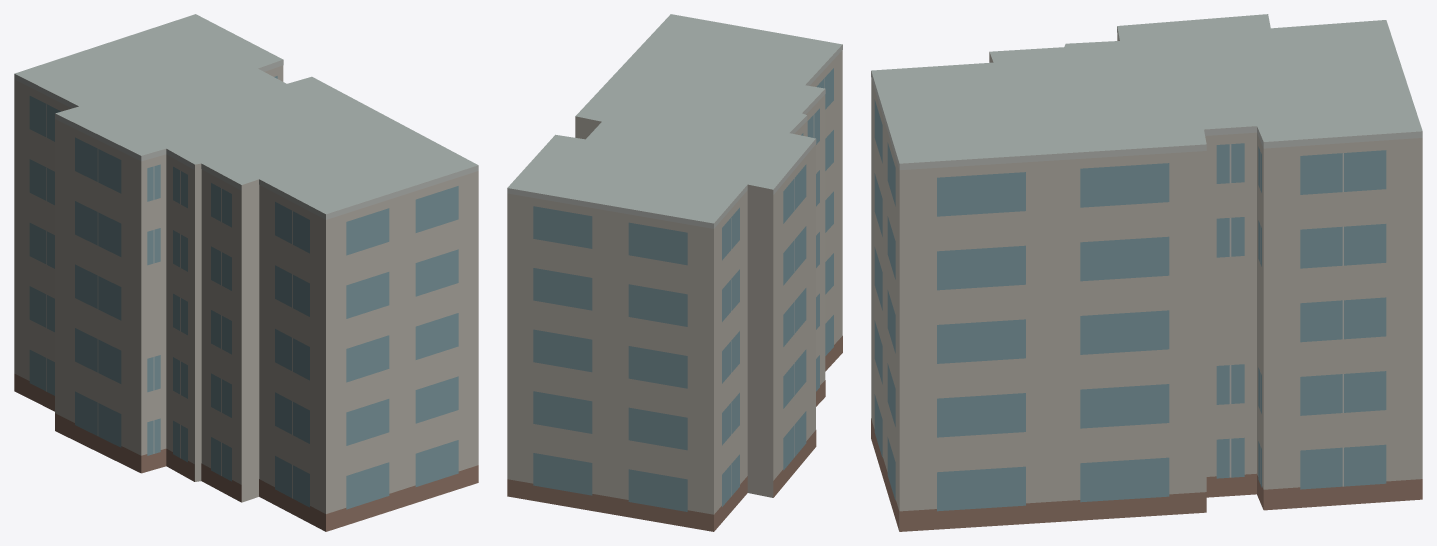
File: survey-upis-32952759.glb
The picture shows the model from 3 angles, left to right: view 1: azimuth 30°, elevation 25°; view 2: azimuth 150°, elevation 25°; view 3: azimuth 270°, elevation 25°; orthographic projection. The views are drawn at different scales.
Parts seen in each view (by area): view 1: survey-upis-32952759.tmp; view 2: survey-upis-32952759.tmp; view 3: survey-upis-32952759.tmp.
Boxes of the visible parts, x1=… form: survey-upis-32952759.tmp: x1=14, y1=14, x2=478, y2=531; survey-upis-32952759.tmp: x1=507, y1=14, x2=842, y2=531; survey-upis-32952759.tmp: x1=871, y1=14, x2=1422, y2=531.
Size of the model in its own units: 12.04 by 13.8 by 18.75.
